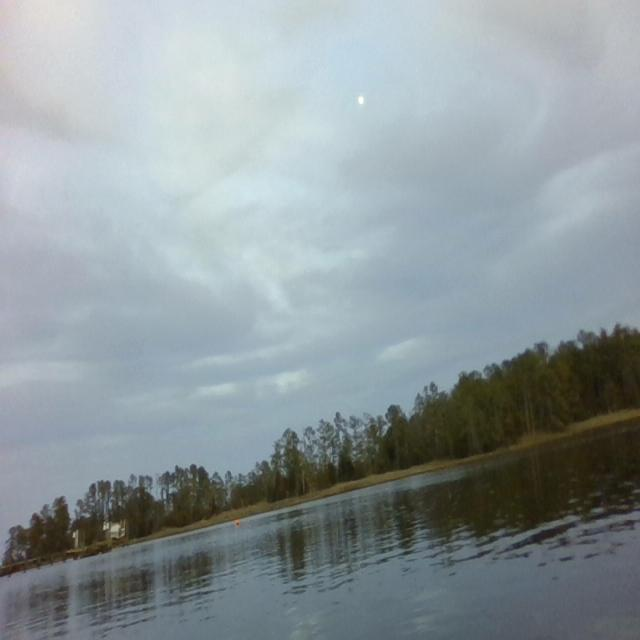Buoy: (234, 517, 240, 528)
